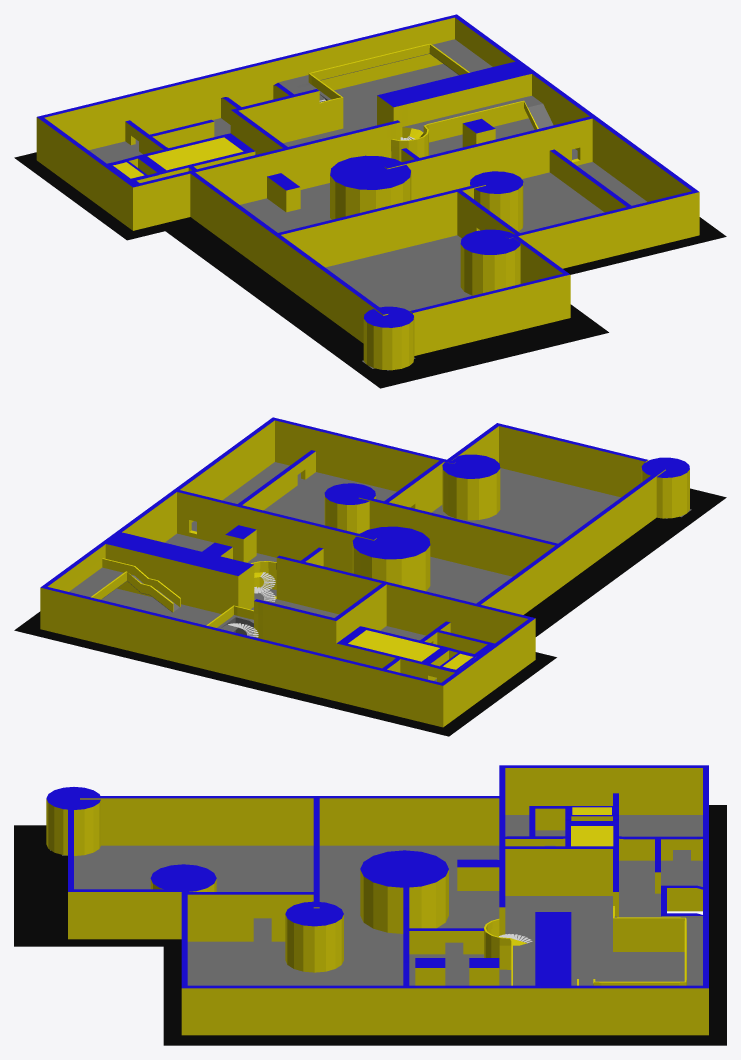
Rendered from nivel1_pre.fbx.
The picture shows the model from 3 angles, top to bottom: view 1: azimuth 30°, elevation 25°; view 2: azimuth 150°, elevation 25°; view 3: azimuth 270°, elevation 25°; orthographic projection. The views are drawn at different scales.
Parts seen in each view (by area): view 1: escenario, escenario.001; view 2: escenario, escenario.001; view 3: escenario, escenario.001.
Part boxes in pixels (x1,y1,x2,y2): escenario: (14,14,726,388); escenario.001: (278,39,492,100); escenario: (14,417,726,736); escenario.001: (69,567,237,631); escenario: (14,765,726,1045); escenario.001: (661,916,702,985).
Size of the model in its own units: 13047 by 1867 by 16343.
